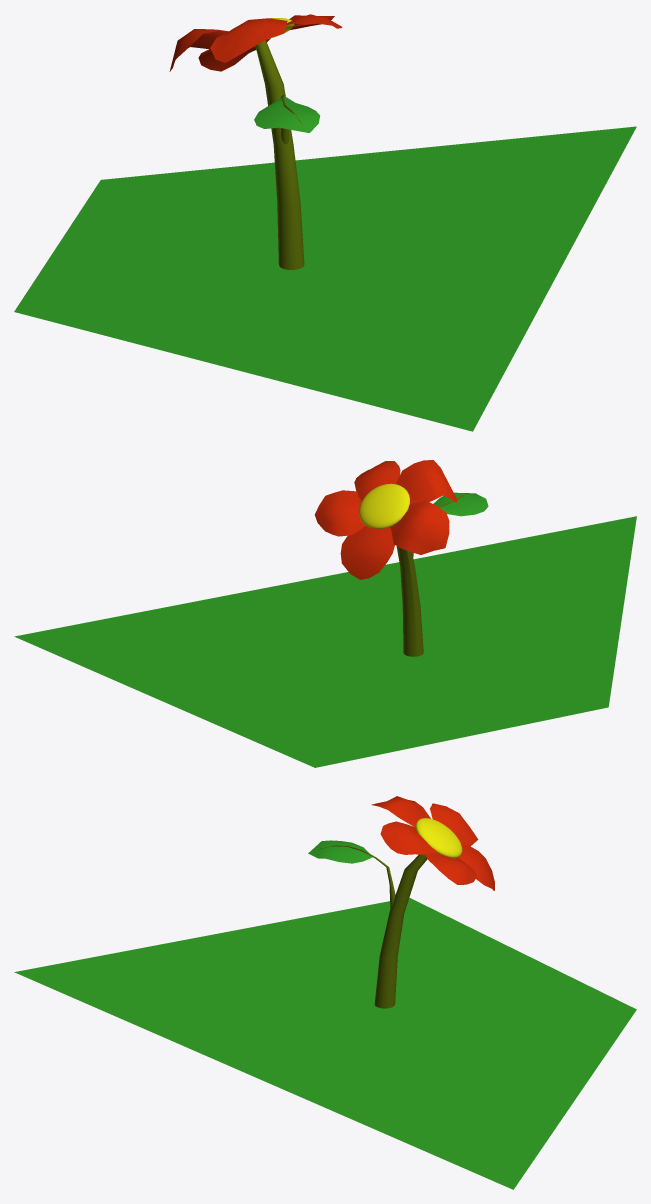
Rendered from Flor Cartoon.fbx.
3 views of the same model, one above another, from view 1: azimuth 30°, elevation 25°; view 2: azimuth 150°, elevation 25°; view 3: azimuth 270°, elevation 25° (orthographic). The views are drawn at different scales.
Visible parts, largest first — view 1: Plane.006, Cylinder, Plane.005, Plane, Plane.003; view 2: Plane.006, Plane.003, Plane.001, Cylinder, Sphere, Plane.004, Plane.005, Plane.002, Plane; view 3: Plane.006, Cylinder, Plane.002, Sphere, Plane, Plane.004, Plane.003, Plane.005, Plane.001.
Boxes of the visible parts, x1,y1,x2,y2 form: Plane.006: [14, 126, 636, 431]; Cylinder: [255, 40, 304, 269]; Plane.005: [210, 18, 287, 62]; Plane: [254, 95, 319, 132]; Plane.003: [169, 29, 228, 71]; Plane.006: [14, 516, 636, 767]; Plane.003: [388, 500, 449, 554]; Plane.001: [340, 525, 394, 579]; Cylinder: [396, 493, 469, 656]; Sphere: [359, 483, 409, 528]; Plane.004: [315, 490, 365, 536]; Plane.005: [396, 460, 457, 503]; Plane.002: [354, 461, 400, 501]; Plane: [433, 492, 488, 516]; Plane.006: [14, 897, 636, 1189]; Cylinder: [319, 845, 427, 1008]; Plane.002: [380, 821, 436, 854]; Sphere: [415, 818, 462, 858]; Plane: [308, 840, 373, 863]; Plane.004: [425, 852, 477, 884]; Plane.003: [430, 803, 478, 846]; Plane.005: [371, 796, 430, 827]; Plane.001: [453, 843, 494, 890].
Size of the model in its own units: 277 by 103 by 272.
